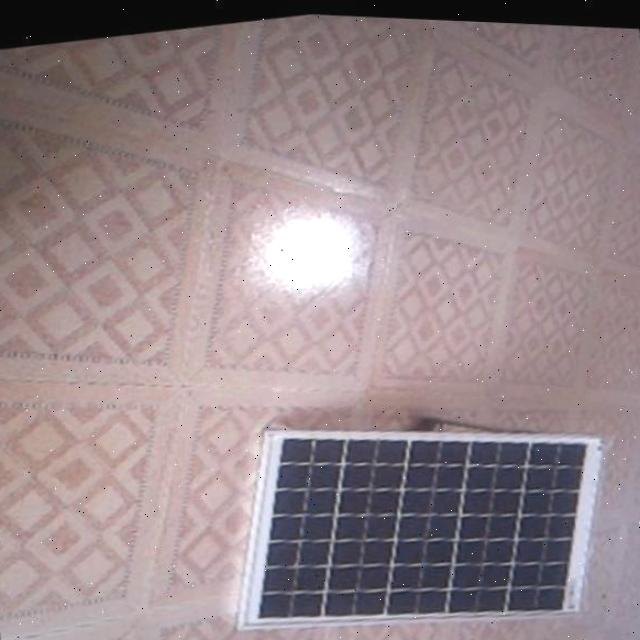Normal Solar Panel: (212, 375, 634, 640)
